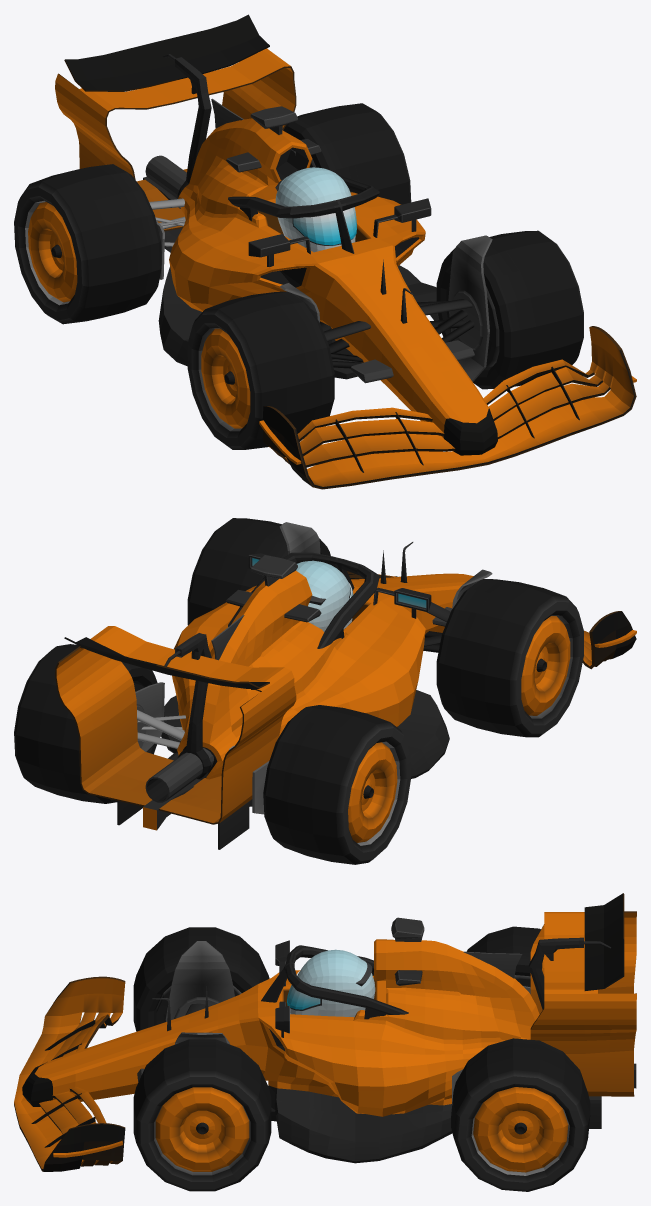
The model's file is lowpoly_f1_car.glb.
3 renders of one model, top to bottom at view 1: azimuth 30°, elevation 25°; view 2: azimuth 150°, elevation 25°; view 3: azimuth 270°, elevation 25°, orthographic. The views are drawn at different scales.
Visible parts, largest first — view 1: Cube.019; view 2: Cube.019; view 3: Cube.019.
Part boxes in pixels (box(x1,y1,x2,y2)): Cube.019: box(14, 14, 636, 489); Cube.019: box(14, 518, 636, 864); Cube.019: box(14, 893, 636, 1191).
Size of the model in its own units: 240 by 145 by 414.
Materials: 1 (1 with a texture image).
